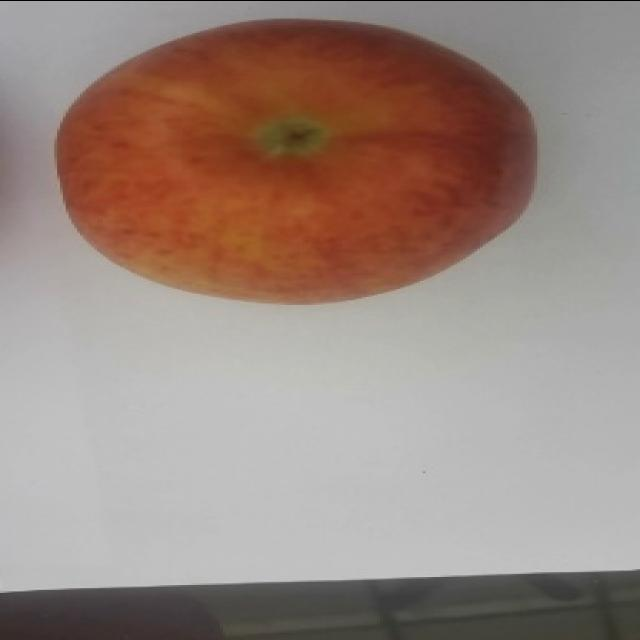Apple: (53, 17, 538, 306)
